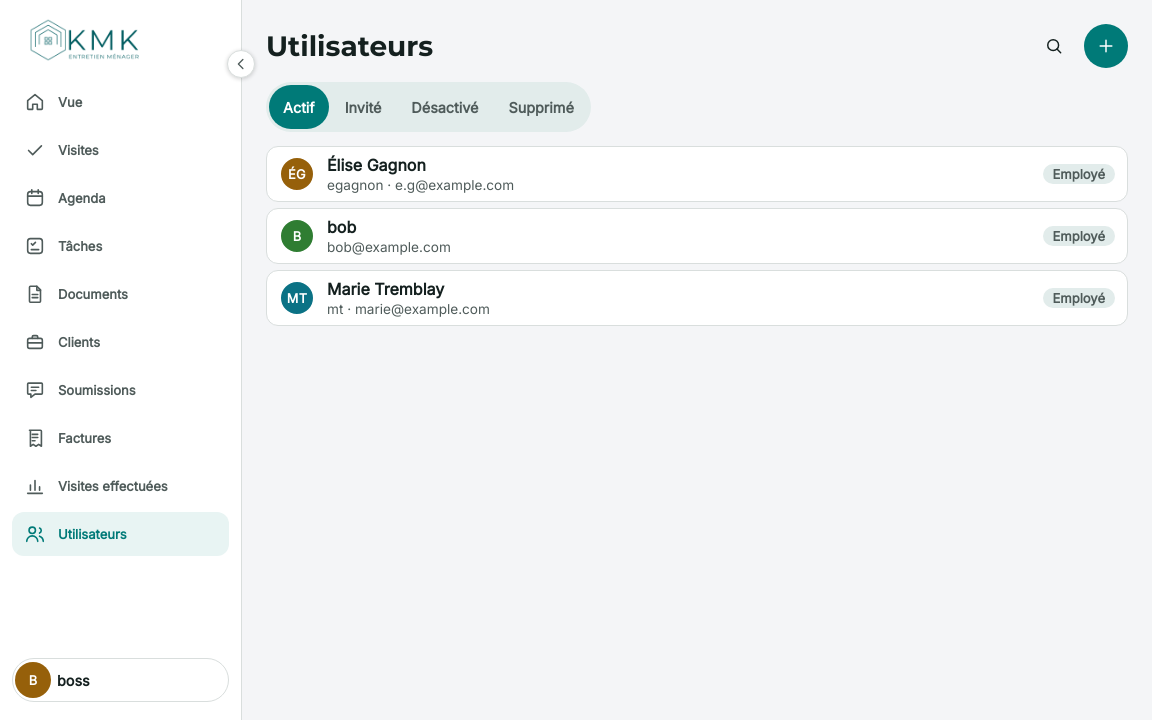
Scenario: admin list › finds the person when searching for elise
expect the heading "Utilisateurs" is shown: met, box left=266, top=28, right=433, bottom=64
expect the element "Élise Gagnon" is shown: met, box left=266, top=146, right=1128, bottom=202
Step 1. Click the button named "Rechercher" → point(1054, 46), box left=1032, top=24, right=1076, bottom=68
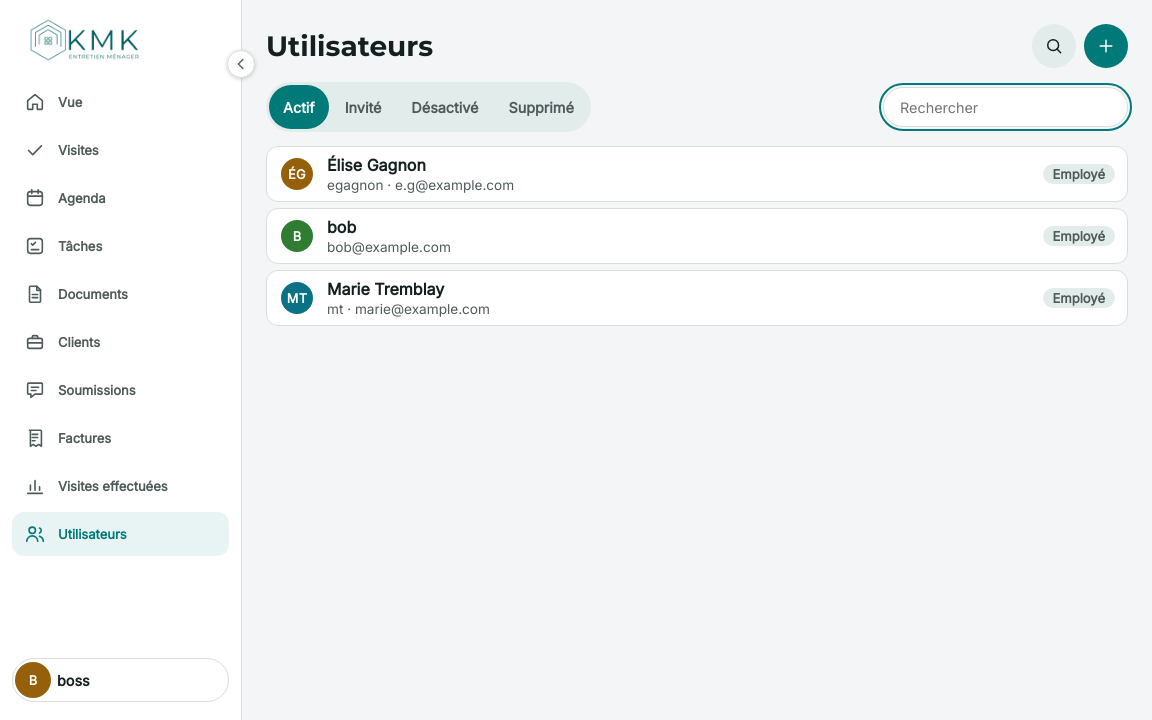
Step 2. Type "elise" into the search field → point(1006, 107), box left=883, top=87, right=1128, bottom=127
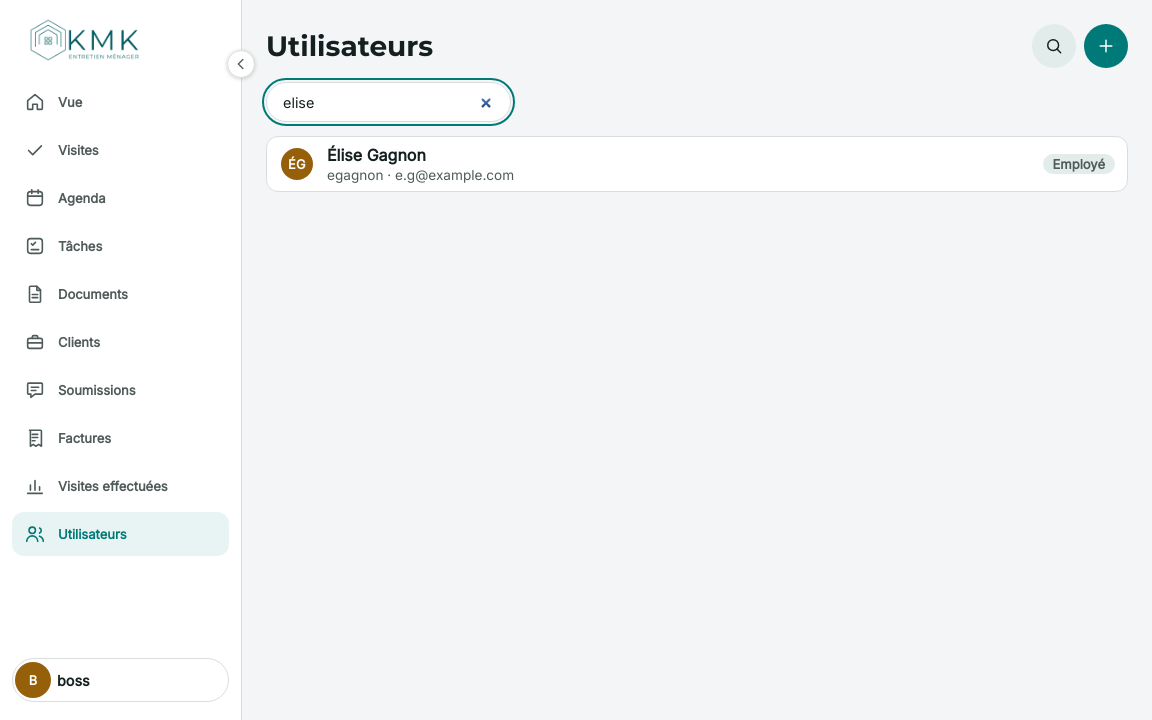
expect the element "Élise Gagnon" is shown: met, box left=266, top=136, right=1128, bottom=192
expect the button "bob" is gone: met
